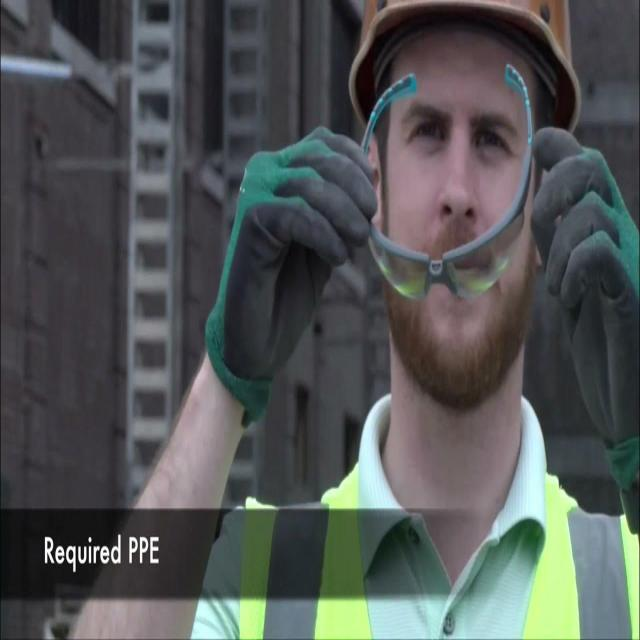goggles: (346, 105, 552, 294)
helmet: (246, 463, 640, 640), (340, 2, 580, 88)
